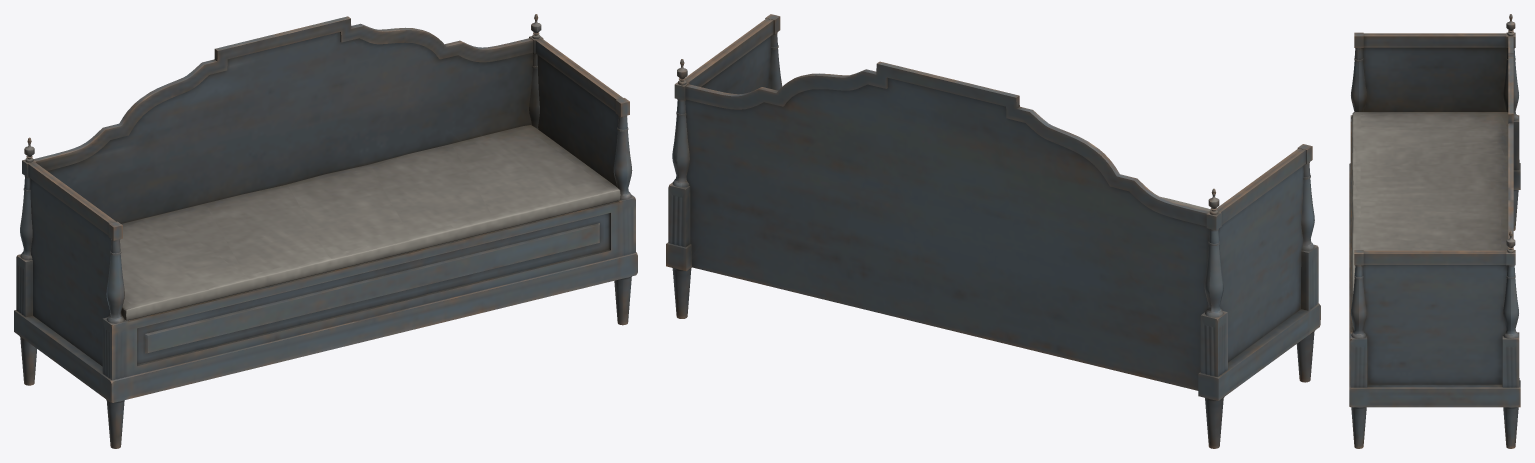
File: sofa_wood.glb
3 views of the same model, side by side, from view 1: azimuth 30°, elevation 25°; view 2: azimuth 150°, elevation 25°; view 3: azimuth 270°, elevation 25° (orthographic). The views are drawn at different scales.
Visible parts, largest first — view 1: mesh; view 2: mesh; view 3: mesh.
Boxes of the visible parts, box(x1,y1,x2,y2) form: mesh: box(14, 14, 637, 448); mesh: box(666, 14, 1320, 448); mesh: box(1349, 14, 1520, 448).
Size of the model in its own units: 2.45 by 1.28 by 0.7872.
1 material, 1 textured.
